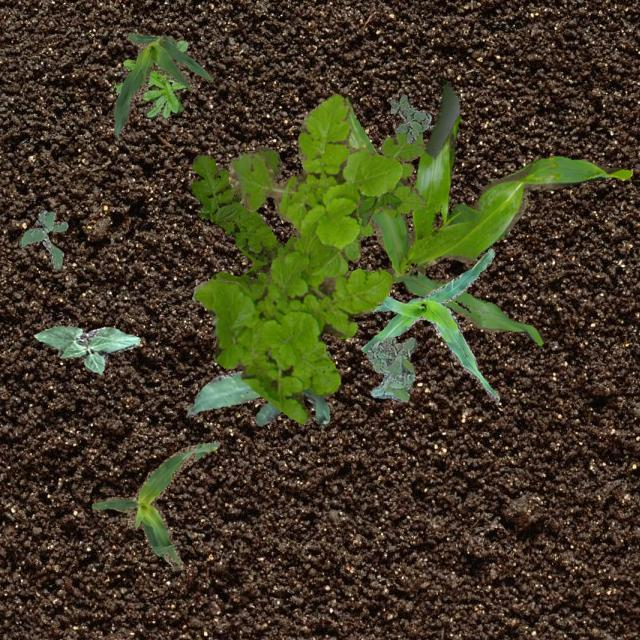crop: (342, 80, 632, 344), (360, 248, 498, 400), (90, 439, 218, 568), (111, 32, 212, 140), (186, 370, 328, 424), (32, 324, 140, 374)
weed: (190, 92, 402, 424), (190, 144, 296, 300), (340, 132, 424, 260), (112, 40, 186, 118), (366, 336, 416, 400), (18, 208, 66, 270), (390, 94, 430, 142), (356, 190, 399, 226)
